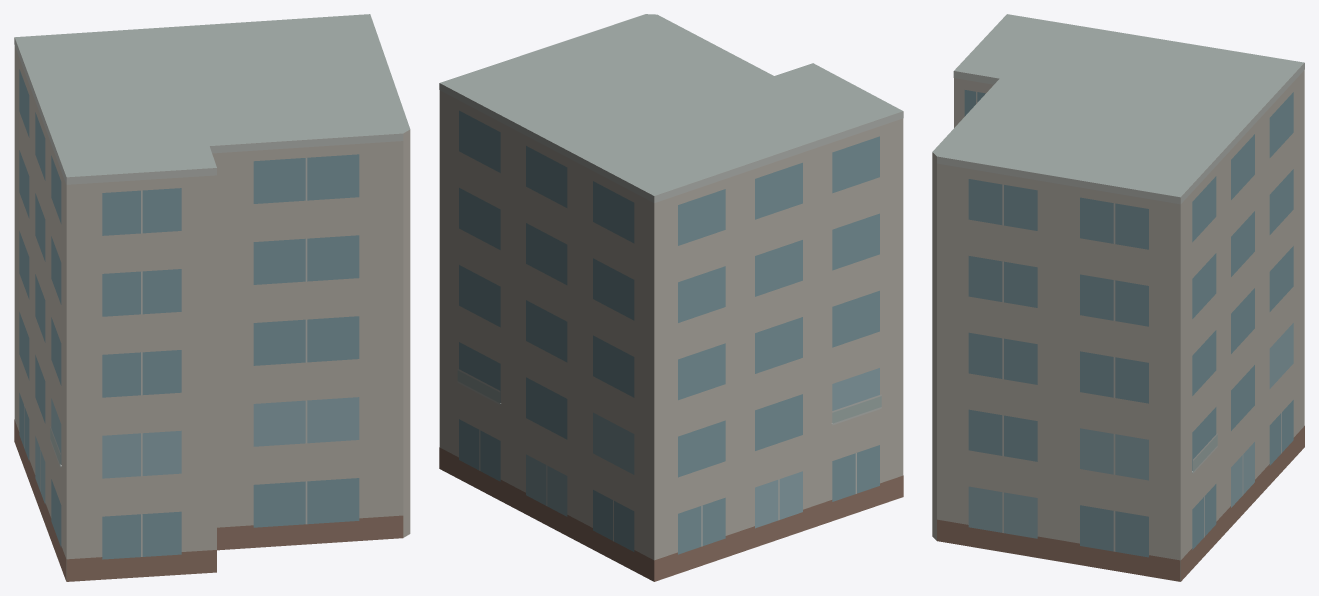
The model's file is survey-upis-32878821.glb.
3 renders of one model, left to right at view 1: azimuth 30°, elevation 25°; view 2: azimuth 150°, elevation 25°; view 3: azimuth 270°, elevation 25°, orthographic. The views are drawn at different scales.
Parts seen in each view (by area): view 1: survey-upis-32878821.tmp; view 2: survey-upis-32878821.tmp; view 3: survey-upis-32878821.tmp.
Boxes of the visible parts, bbox=[...] form: survey-upis-32878821.tmp: bbox=[14, 14, 410, 581]; survey-upis-32878821.tmp: bbox=[439, 14, 903, 581]; survey-upis-32878821.tmp: bbox=[932, 14, 1304, 581].
Size of the model in its own units: 13.5 by 13.2 by 11.6.
